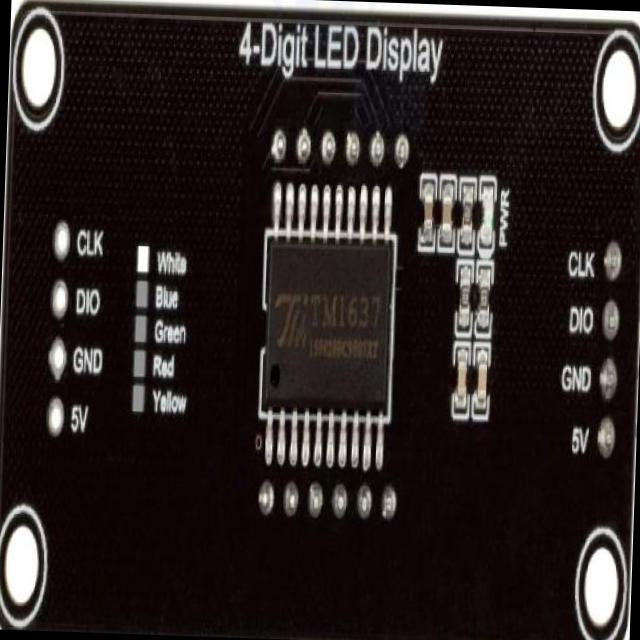IC: (256, 191, 399, 463)
LED: (482, 188, 496, 243)
capacitor: (476, 350, 489, 412), (438, 188, 454, 238), (456, 352, 468, 406), (421, 186, 431, 240)
resistor: (457, 265, 473, 329), (476, 266, 490, 326), (462, 188, 474, 242)
